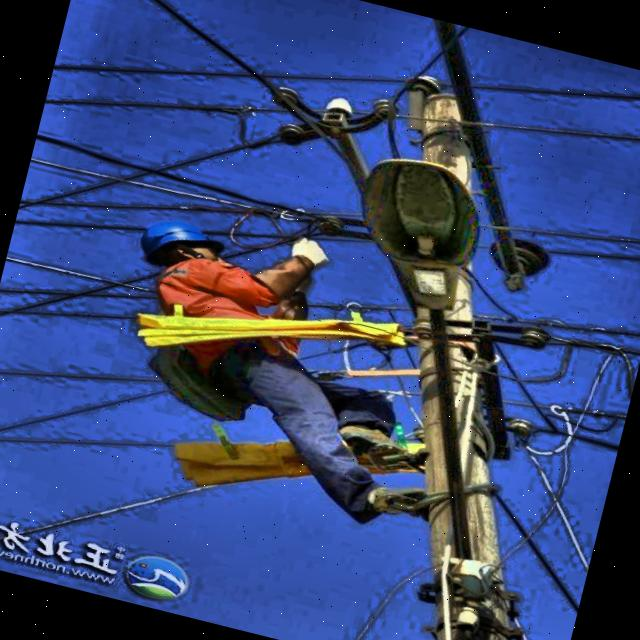helmet: (132, 208, 225, 282), (114, 540, 206, 612)
